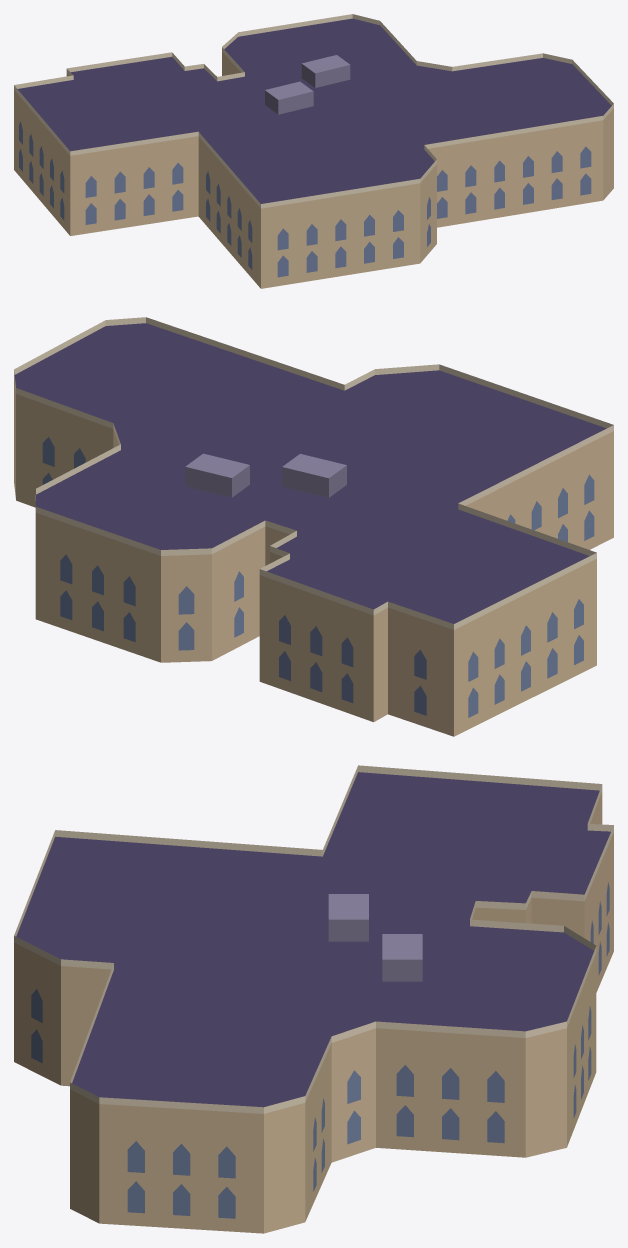
Rendered from b-086-international-graduate-affairs-day.glb.
3 views of the same model, one above another, from view 1: azimuth 30°, elevation 25°; view 2: azimuth 150°, elevation 25°; view 3: azimuth 270°, elevation 25° (orthographic). The views are drawn at different scales.
Visible parts, largest first — view 1: campus/b-086-international-graduate-affairs-day-0; view 2: campus/b-086-international-graduate-affairs-day-0; view 3: campus/b-086-international-graduate-affairs-day-0.
Boxes of the visible parts, left/top/right/bottom form: campus/b-086-international-graduate-affairs-day-0: left=14, top=14, right=613, bottom=288; campus/b-086-international-graduate-affairs-day-0: left=14, top=317, right=613, bottom=736; campus/b-086-international-graduate-affairs-day-0: left=14, top=765, right=613, bottom=1233.
Bounding box in the file's own units: 60.05 × 11.6 × 44.54.
